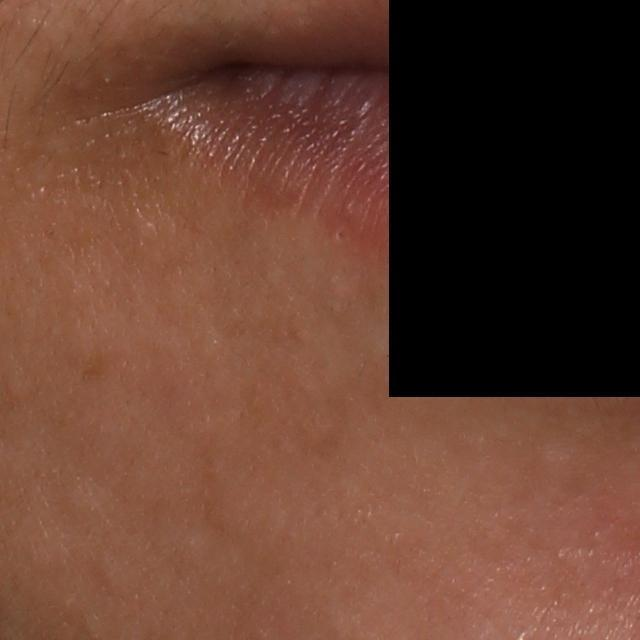comedo: (59, 480, 102, 528), (331, 228, 347, 245)
